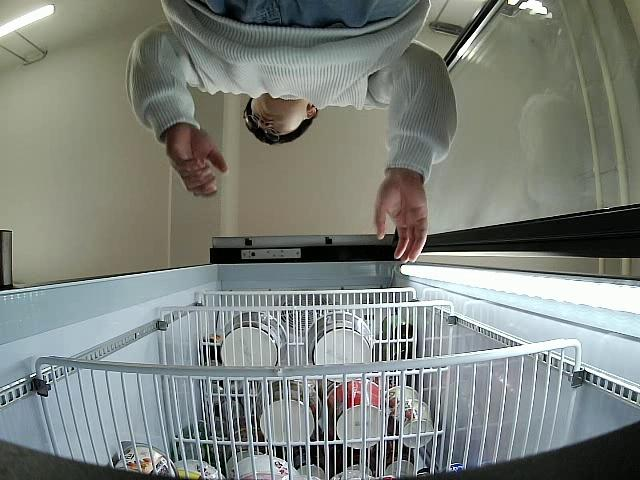00_hand: (374, 175, 429, 265), (166, 125, 230, 199)
